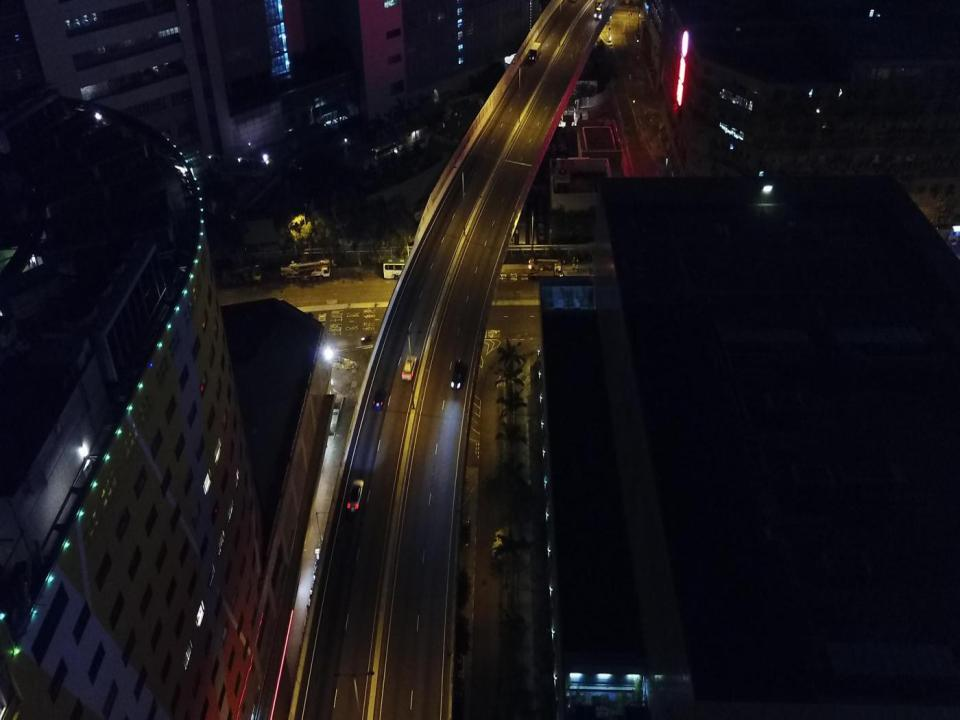bus: (382, 258, 437, 278), (373, 142, 397, 160), (594, 0, 609, 19)
car: (347, 478, 363, 514), (450, 359, 464, 389), (401, 355, 417, 381), (460, 516, 471, 548), (373, 388, 387, 410), (398, 140, 408, 151)
truck: (529, 42, 541, 61)
